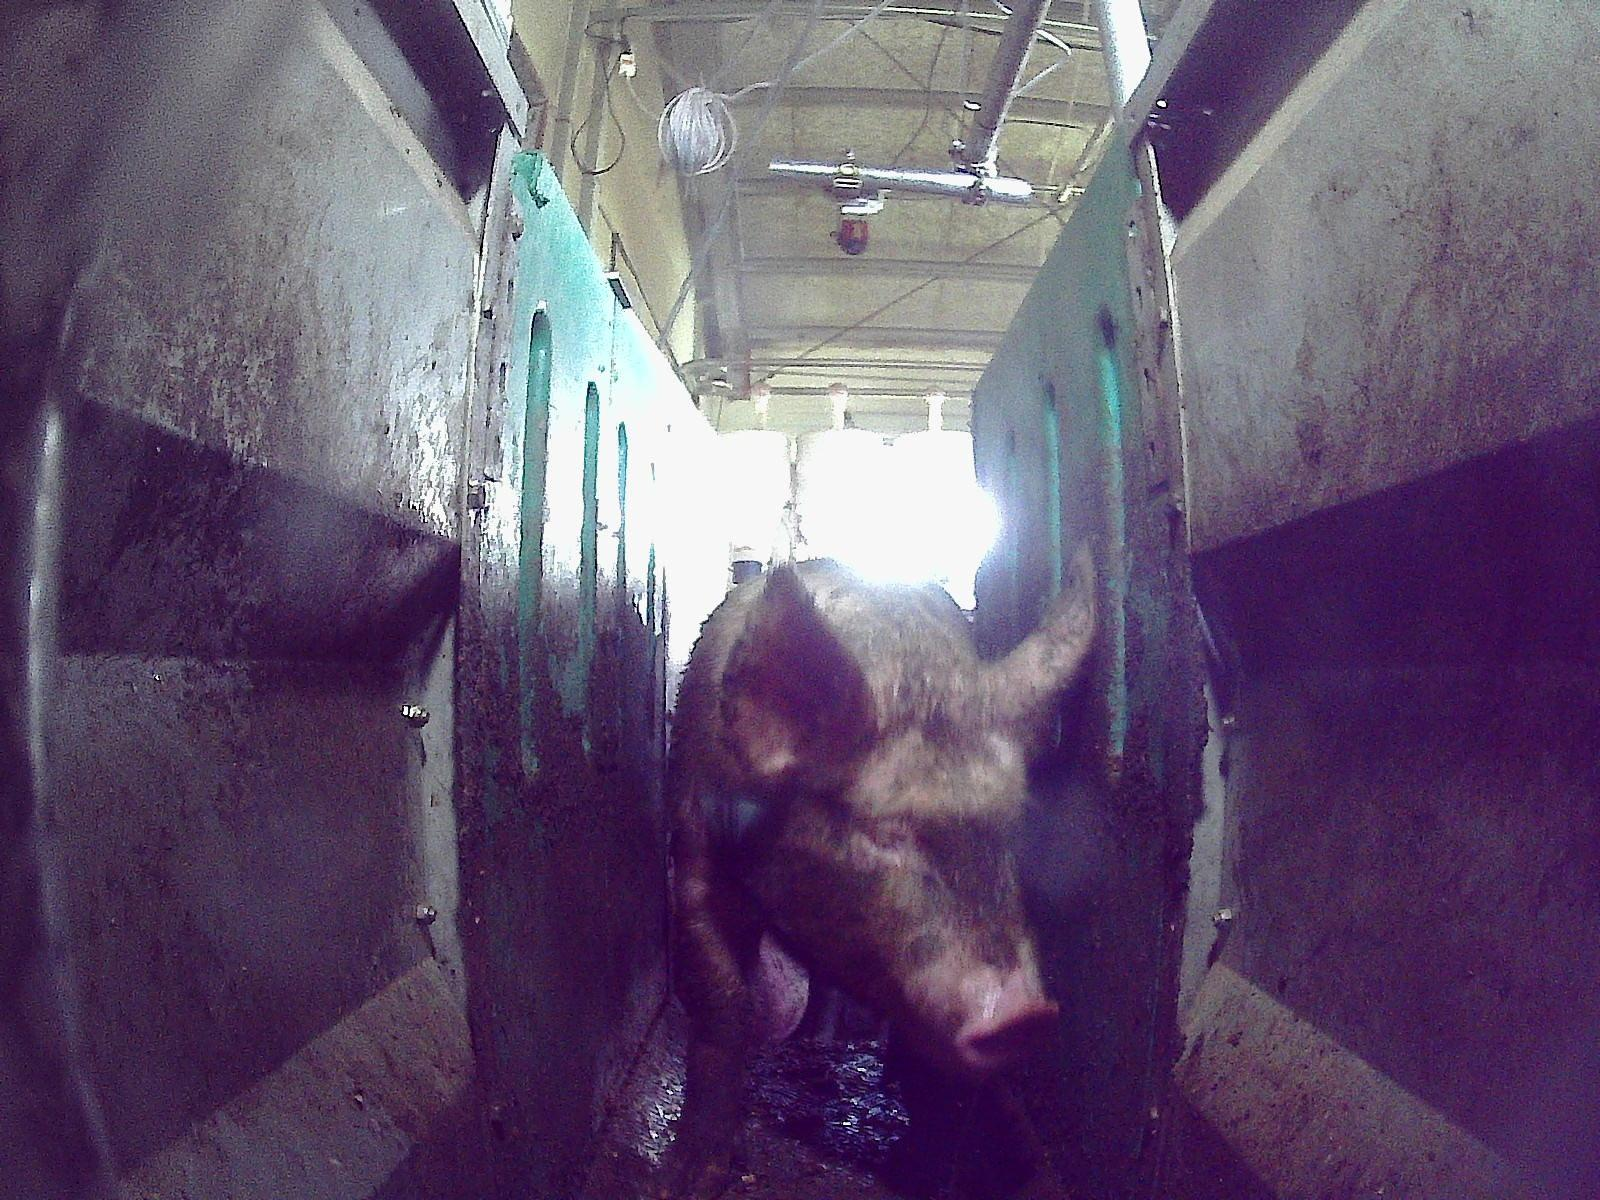Face: (769, 650, 1067, 1075)
